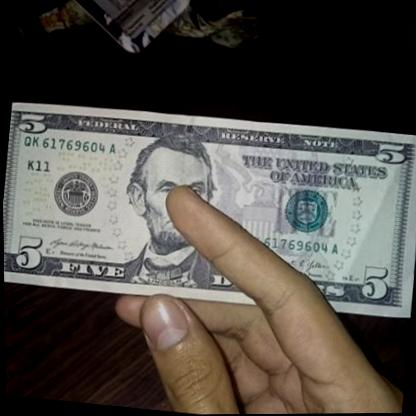dollar_front: (1, 99, 416, 326)
